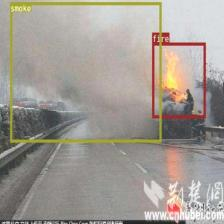fire: (152, 43, 206, 118)
smoke: (10, 2, 161, 142)
